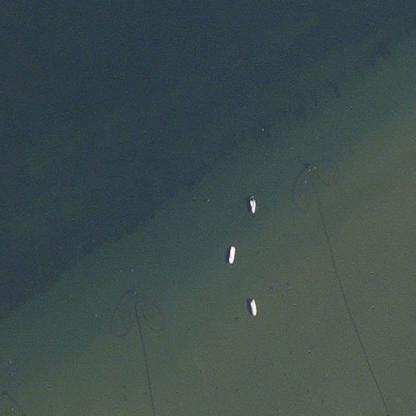ship: (243, 294, 260, 319), (222, 241, 238, 266), (245, 190, 259, 216)
